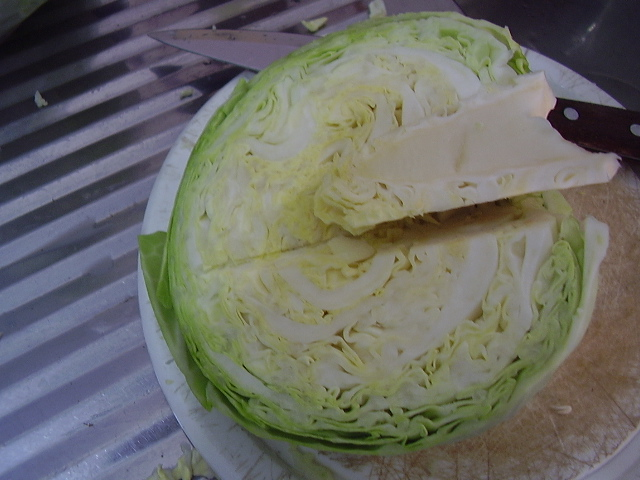cabbage: (136, 8, 625, 457)
